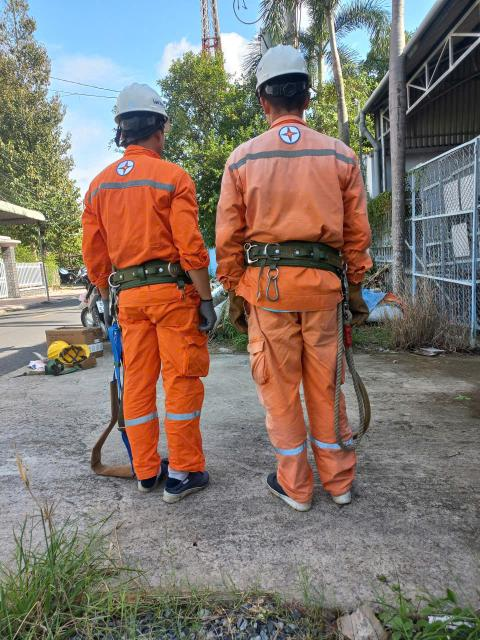gloves: (344, 275, 374, 333), (225, 291, 252, 340), (91, 297, 123, 333), (195, 294, 220, 332)
harness: (226, 231, 362, 283), (91, 244, 202, 292)
helmet: (99, 76, 178, 133), (246, 35, 323, 93)
shoes: (254, 466, 314, 516), (121, 451, 178, 495), (161, 464, 217, 507)
